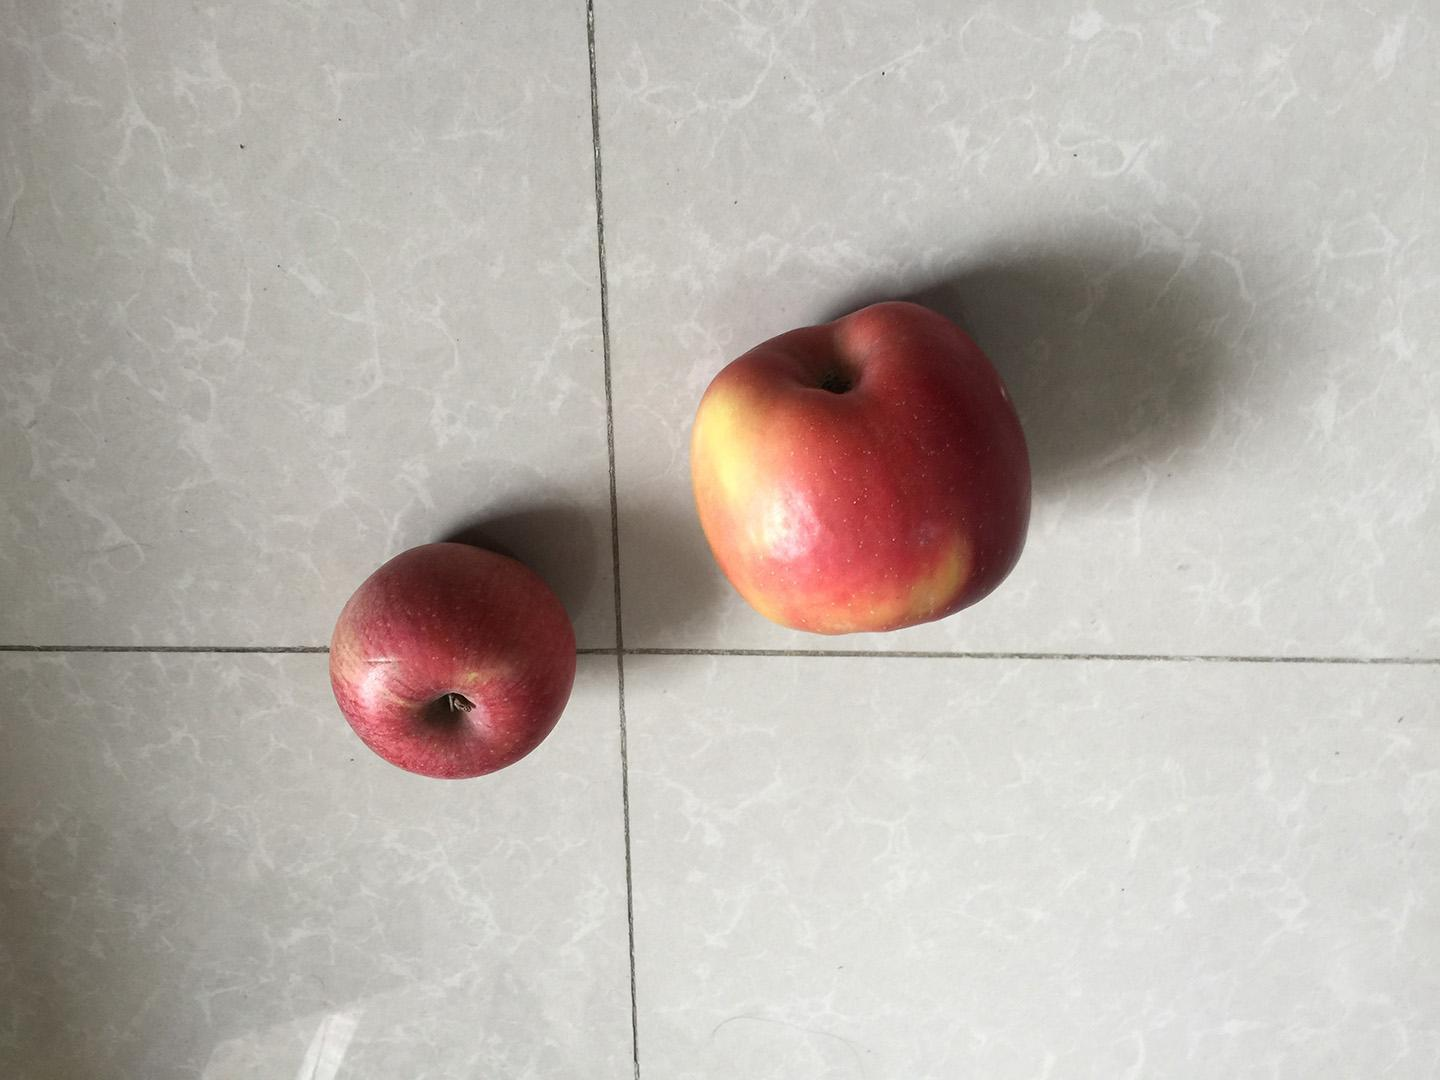apple: (681, 290, 1037, 642), (323, 538, 587, 787)
